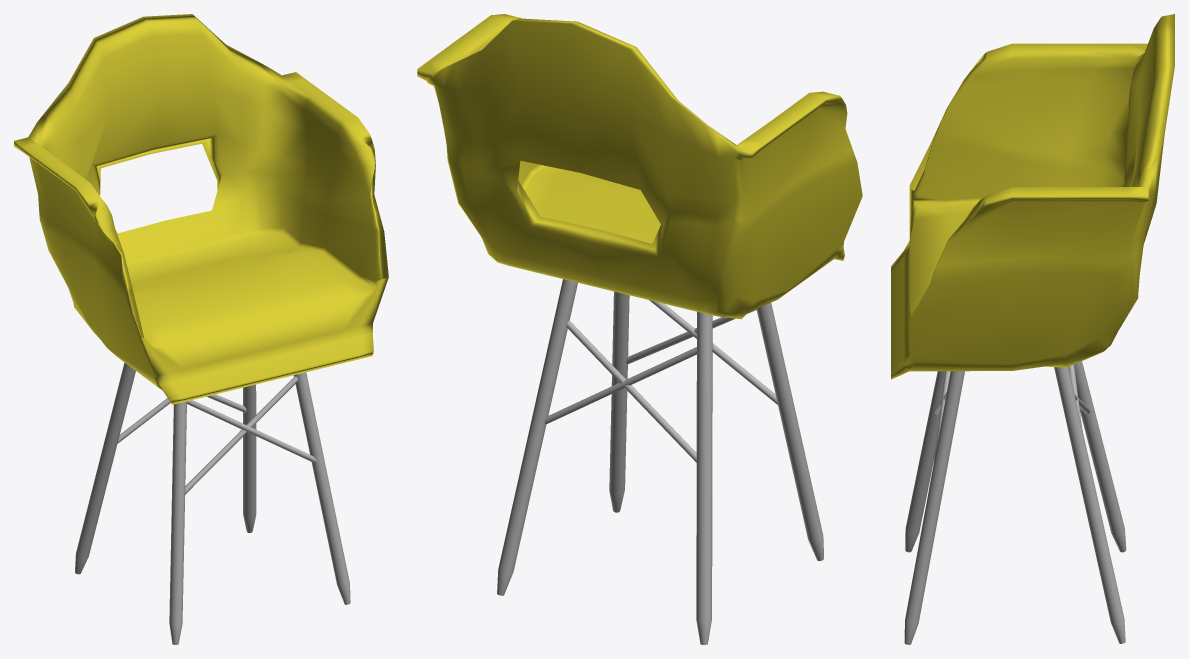
The model's file is chair_yellow.fbx.
3 views of the same model, side by side, from view 1: azimuth 30°, elevation 25°; view 2: azimuth 150°, elevation 25°; view 3: azimuth 270°, elevation 25° (orthographic). The views are drawn at different scales.
Visible parts, largest first — view 1: cafechair; view 2: cafechair; view 3: cafechair.
Part boxes in pixels (bbox=[...]): cafechair: bbox=[14, 14, 388, 644]; cafechair: bbox=[417, 14, 862, 644]; cafechair: bbox=[891, 14, 1174, 644].
Size of the model in its own units: 3.66 by 6.44 by 2.91.
